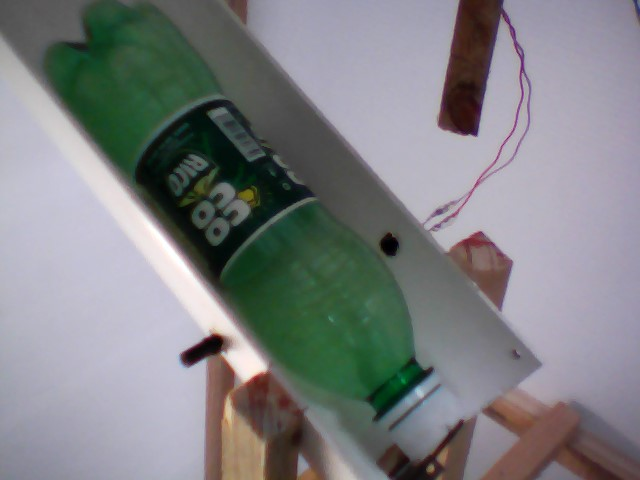plastico: (31, 1, 473, 462)
